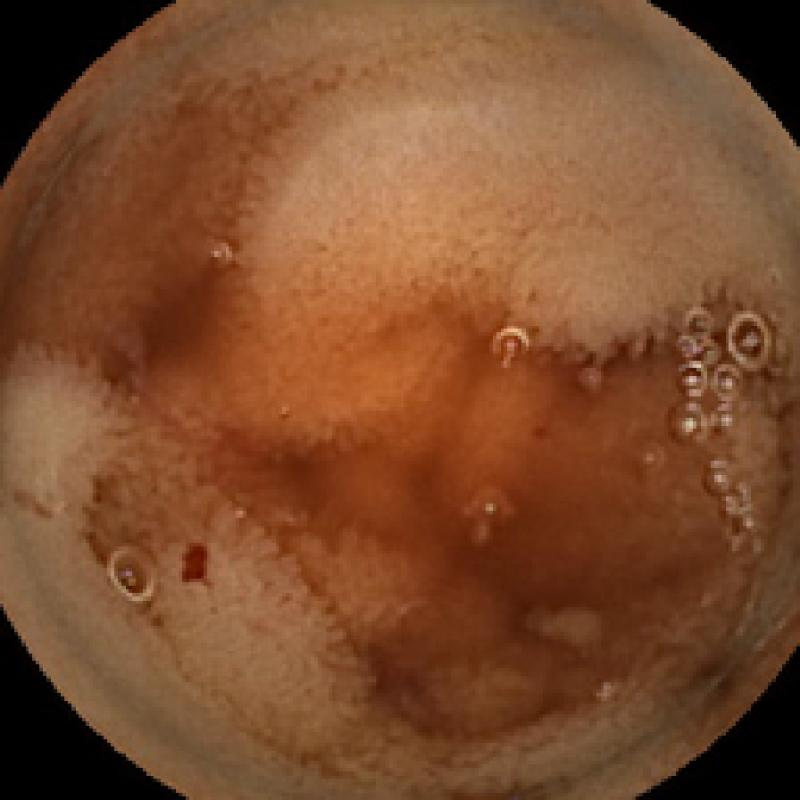bleeding: (178, 536, 218, 593)
